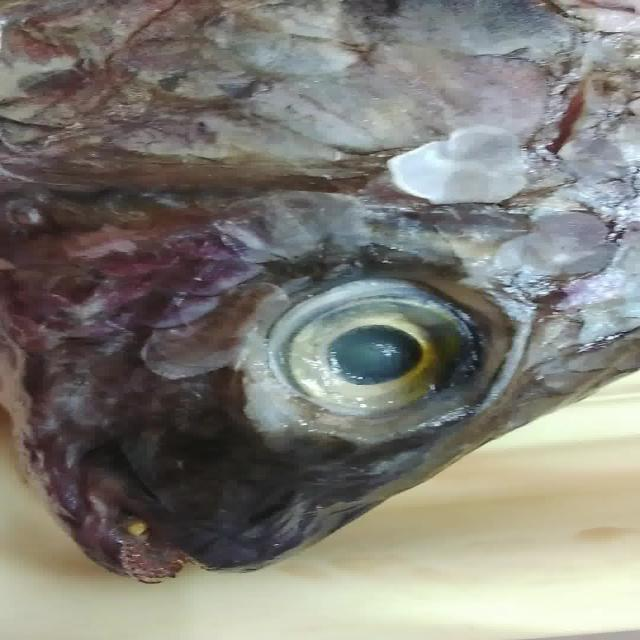Non-Fresh: (16, 9, 622, 253), (243, 270, 498, 441)
